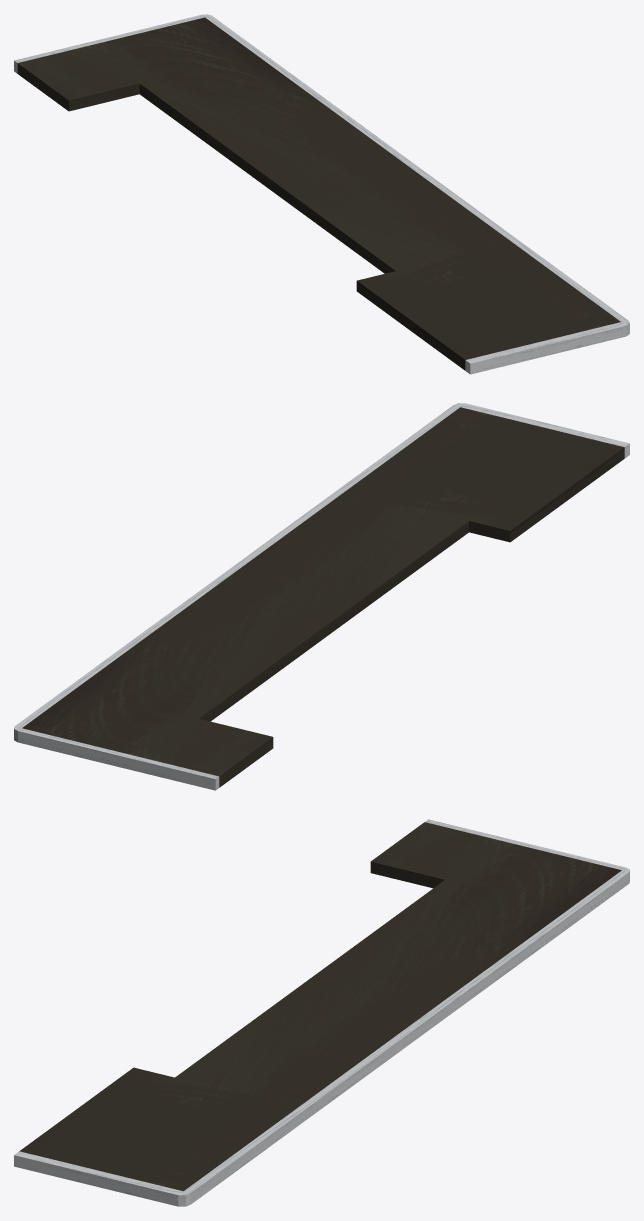
File: calcada 2.fbx
3 renders of one model, top to bottom at view 1: azimuth 30°, elevation 25°; view 2: azimuth 150°, elevation 25°; view 3: azimuth 330°, elevation 25°, orthographic. The views are drawn at different scales.
Visible parts, largest first — view 1: Cube.012; view 2: Cube.012; view 3: Cube.012.
Boxes of the visible parts, x1,y1,x2,y2 form: Cube.012: (14,14,629,374); Cube.012: (14,403,629,790); Cube.012: (14,819,629,1206).
Size of the model in its own units: 314 by 16.77 by 1189.
Materials: 1 (1 with a texture image).
